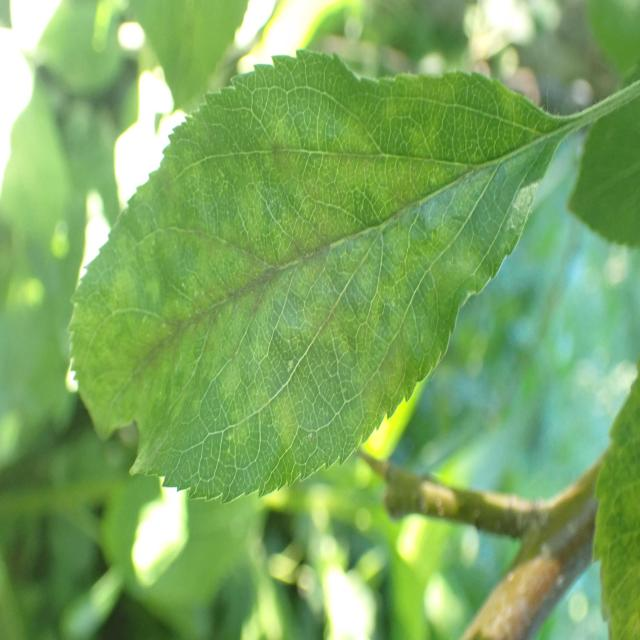scab: (85, 84, 538, 468)
